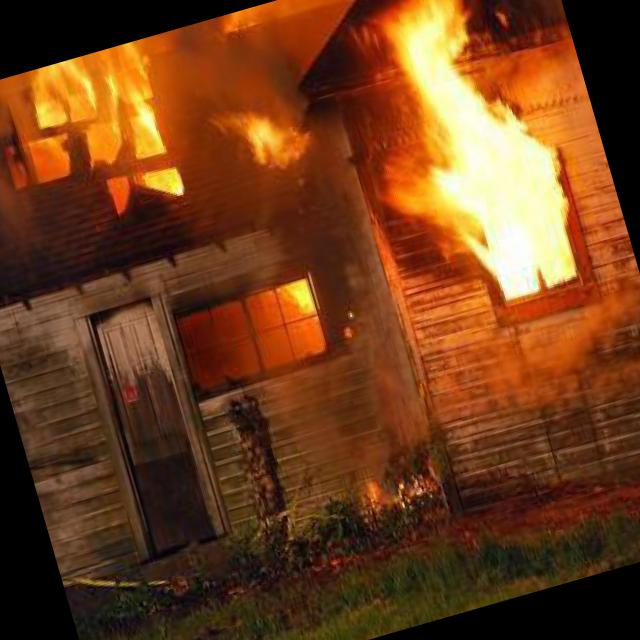fire: (364, 0, 594, 317), (210, 81, 325, 200), (350, 448, 434, 524), (270, 274, 319, 329)
